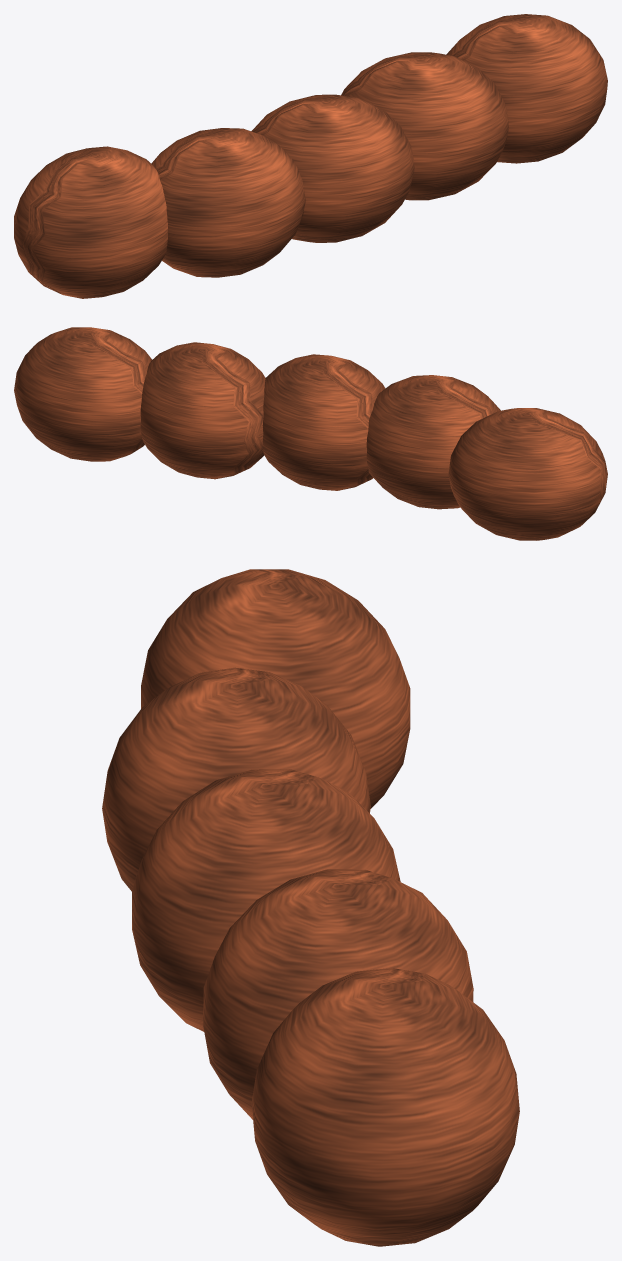
Rendered from sausage_link.glb.
3 renders of one model, top to bottom at view 1: azimuth 30°, elevation 25°; view 2: azimuth 150°, elevation 25°; view 3: azimuth 270°, elevation 25°, orthographic. The views are drawn at different scales.
Visible parts, largest first — view 1: sausage; view 2: sausage; view 3: sausage.
Boxes of the visible parts, x1,y1,x2,y2 form: sausage: (14,14,607,298); sausage: (14,327,607,540); sausage: (102,569,519,1246).
Size of the model in its own units: 0.2355 by 0.05 by 0.0777.
1 material, 1 textured.
